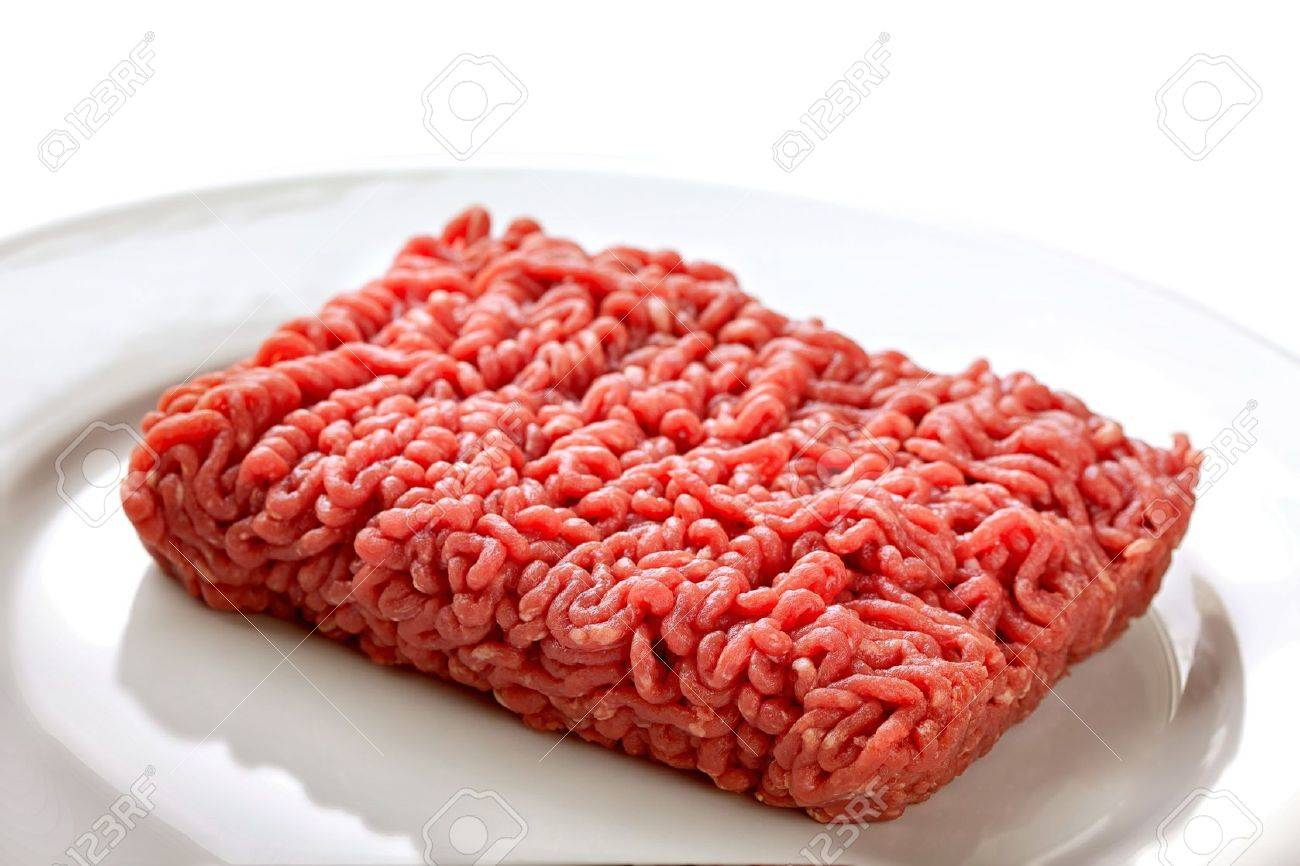ground_beef: (135, 190, 1162, 832)
